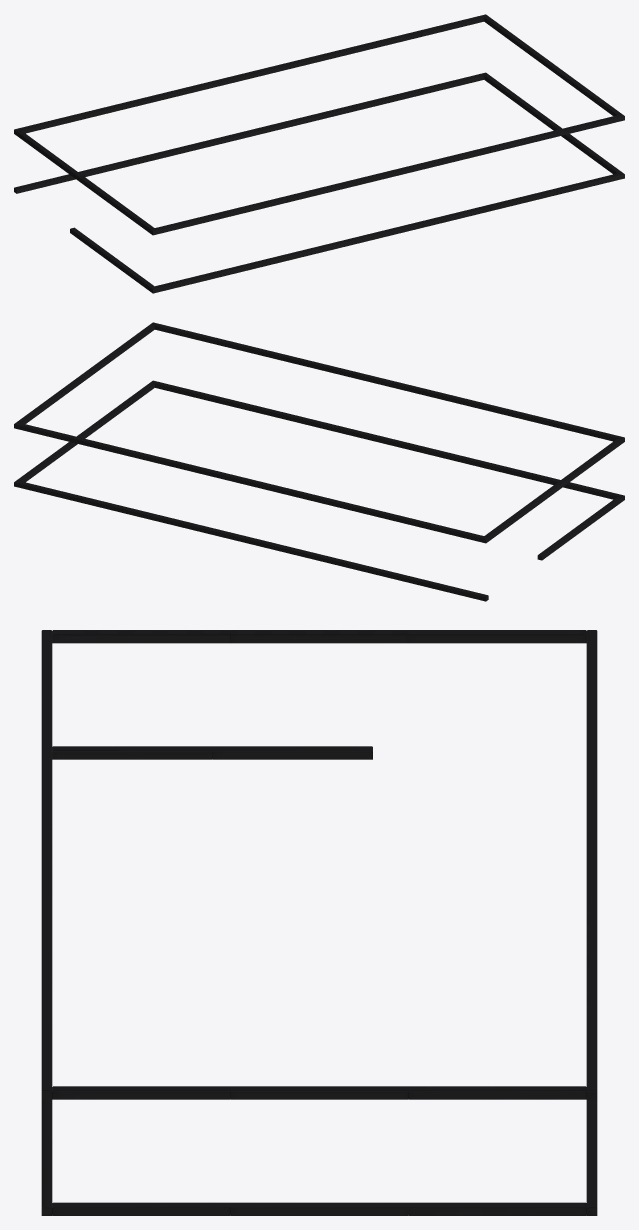
File: atrium_frame.glb
The picture shows the model from 3 angles, top to bottom: view 1: azimuth 30°, elevation 25°; view 2: azimuth 150°, elevation 25°; view 3: azimuth 270°, elevation 25°; orthographic projection. The views are drawn at different scales.
Parts seen in each view (by area): view 1: atrium_frame; view 2: atrium_frame; view 3: atrium_frame.
Part boxes in pixels (x1,y1,x2,y2): atrium_frame: [14, 14, 624, 293]; atrium_frame: [14, 322, 624, 601]; atrium_frame: [41, 630, 597, 1215].
Bounding box in the file's own units: 30.6 × 3.88 × 15.6.
1 material, 1 textured.
